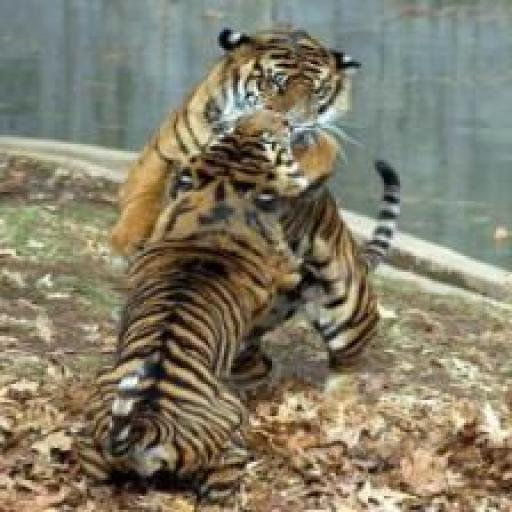Tiger: (92, 20, 401, 385), (74, 110, 308, 498)
